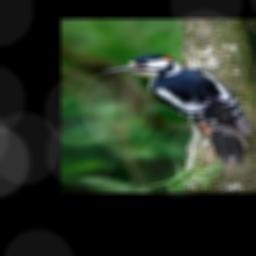Woodpecker: (103, 54, 253, 164)
